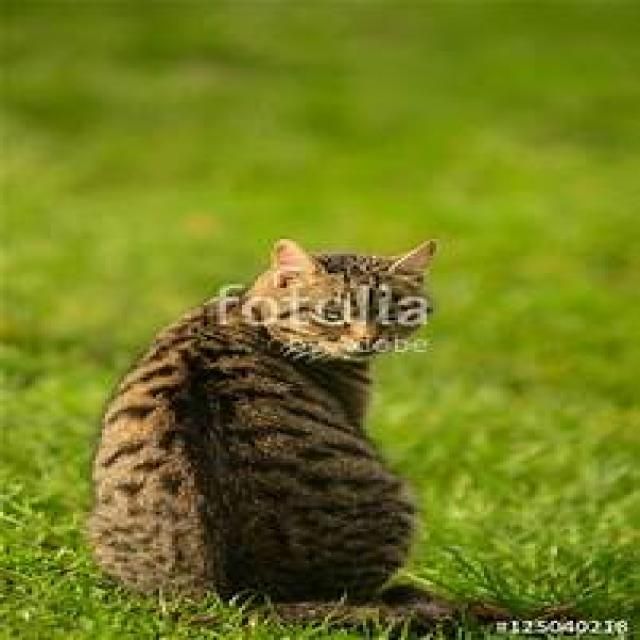animal: (83, 234, 573, 632)
